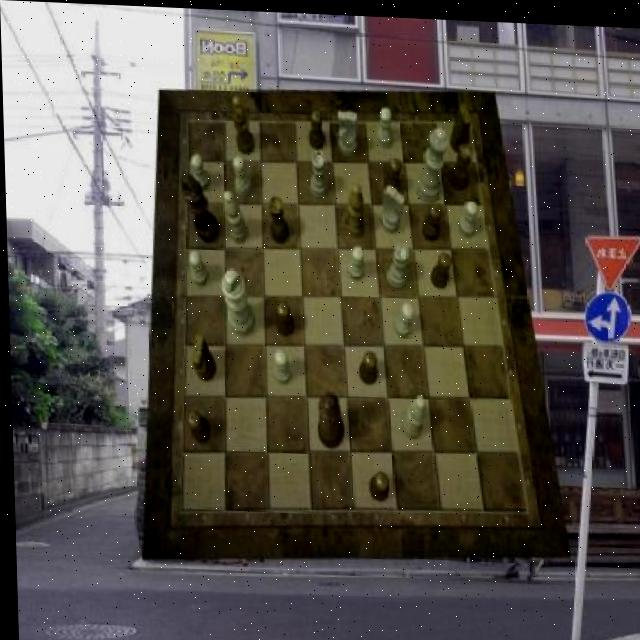bishop: (231, 94, 253, 153), (343, 181, 364, 236)
black-bishop: (179, 171, 218, 243)
black-king: (447, 99, 471, 148), (189, 334, 213, 380)
black-knight: (183, 408, 207, 442), (429, 249, 451, 286), (420, 201, 441, 237), (307, 108, 325, 148), (383, 155, 401, 194), (356, 348, 376, 382), (365, 468, 385, 500), (274, 299, 292, 334)
black-pawn: (314, 389, 343, 448)
black-queen: (446, 139, 472, 187), (267, 194, 288, 242)
black-rook: (221, 189, 245, 242), (398, 392, 424, 435)
white-bishop: (219, 268, 254, 336)
white-king: (379, 182, 405, 231), (336, 107, 357, 153)
white-knight: (390, 298, 412, 335), (457, 196, 478, 234), (232, 154, 252, 193), (188, 152, 209, 189), (186, 248, 206, 284), (376, 104, 392, 145), (272, 348, 290, 383), (345, 243, 363, 278)
white-pawn: (412, 122, 449, 200)
white-queen: (385, 239, 408, 286), (309, 148, 329, 196)
